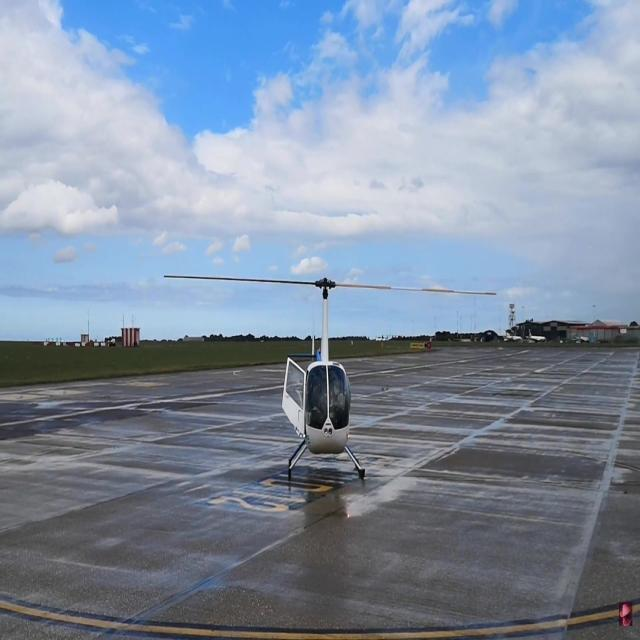CIV_HELO: (280, 276, 366, 481)
